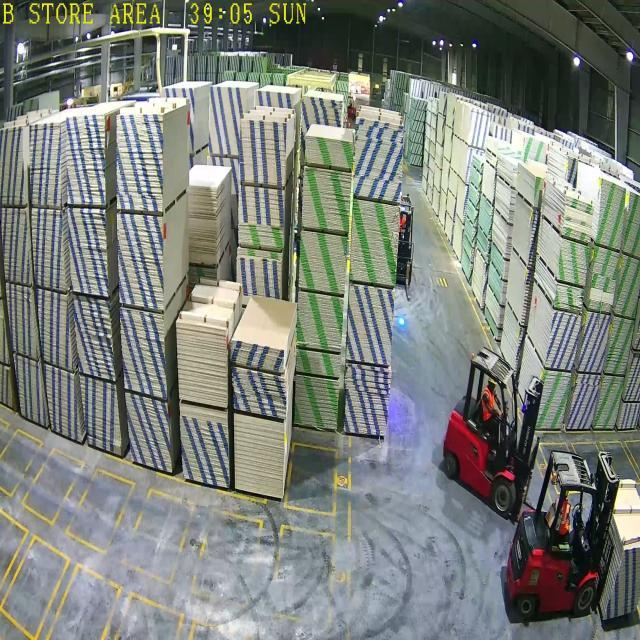material_stack: (351, 201, 398, 286), (355, 117, 402, 201), (235, 415, 283, 497), (346, 285, 393, 364), (344, 364, 389, 434), (302, 168, 351, 231), (299, 232, 346, 292), (298, 293, 343, 351), (233, 368, 285, 418), (295, 376, 338, 428), (596, 180, 626, 250), (545, 313, 581, 370), (588, 247, 619, 313), (534, 372, 570, 428), (567, 375, 600, 429), (579, 313, 609, 372), (605, 317, 634, 375), (231, 340, 283, 372), (615, 255, 640, 319), (594, 376, 624, 429), (305, 136, 353, 169), (557, 239, 589, 285), (562, 196, 593, 243), (297, 350, 340, 376), (624, 193, 640, 257), (555, 285, 584, 311)
